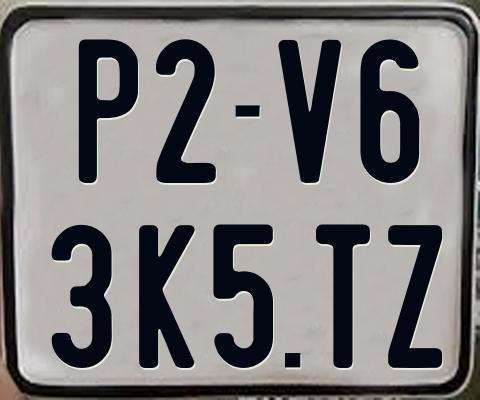2: (156, 37, 219, 186)
3: (50, 225, 117, 374)
5: (213, 222, 279, 369)
6: (358, 38, 423, 188)
K: (139, 223, 196, 368)
P: (78, 37, 139, 183)
T: (314, 221, 374, 368)
V: (275, 40, 339, 188)
Z: (386, 222, 444, 369)
